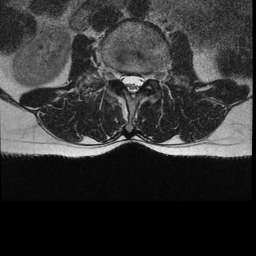CCS_normal: (128, 66, 136, 101)
LFS_stenosis: (144, 66, 154, 89)
LLS_normal: (136, 68, 144, 96)
RFS_normal: (111, 60, 120, 87)
RLS_normal: (120, 68, 128, 95)
